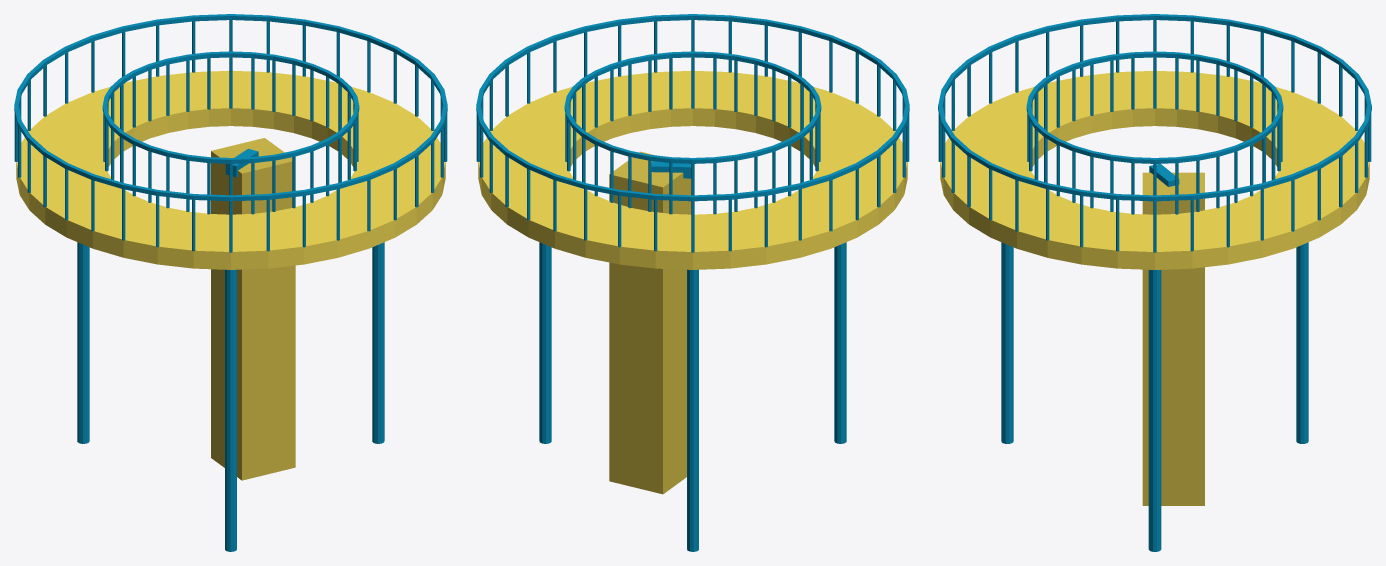
File: folie_tag_108.glb
3 renders of one model, left to right at view 1: azimuth 30°, elevation 25°; view 2: azimuth 150°, elevation 25°; view 3: azimuth 270°, elevation 25°, orthographic.
Visible parts, largest first — view 1: folie_tag_108_00_ring, folie_tag_108_line, folie_tag_108_core; view 2: folie_tag_108_00_ring, folie_tag_108_line, folie_tag_108_core; view 3: folie_tag_108_00_ring, folie_tag_108_line, folie_tag_108_core.
Boxes of the visible parts, x1,y1,x2,y2 form: folie_tag_108_00_ring: [16, 70, 445, 269]; folie_tag_108_line: [14, 14, 447, 551]; folie_tag_108_core: [211, 138, 295, 480]; folie_tag_108_00_ring: [478, 70, 907, 269]; folie_tag_108_line: [476, 14, 909, 551]; folie_tag_108_core: [609, 151, 691, 494]; folie_tag_108_00_ring: [940, 71, 1369, 269]; folie_tag_108_line: [938, 14, 1371, 551]; folie_tag_108_core: [1142, 172, 1204, 505].
Bounding box in the file's own units: 7.68 × 7.26 × 7.68.
